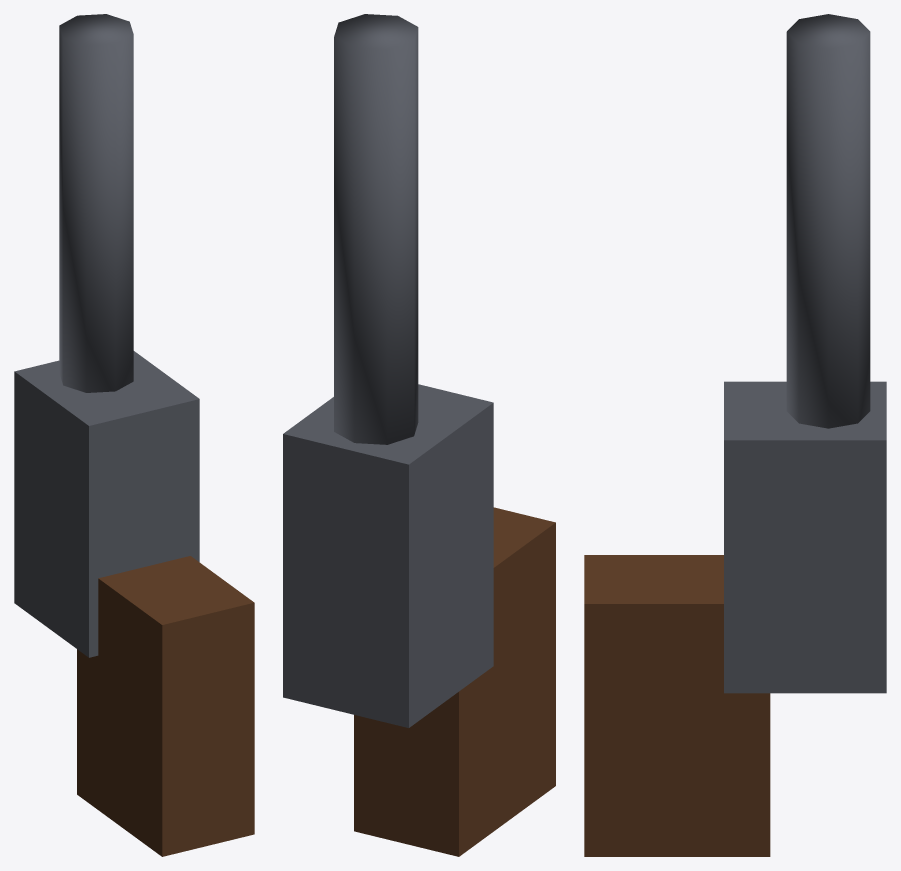
The model's file is flintlock_pistol.glb.
3 renders of one model, left to right at view 1: azimuth 30°, elevation 25°; view 2: azimuth 150°, elevation 25°; view 3: azimuth 270°, elevation 25°, orthographic. The views are drawn at different scales.
Visible parts, largest first — view 1: flintlock_pistol_v0; view 2: flintlock_pistol_v0; view 3: flintlock_pistol_v0.
Boxes of the visible parts, left/top/right/bottom form: flintlock_pistol_v0: left=14, top=14, right=254, bottom=856; flintlock_pistol_v0: left=283, top=14, right=555, bottom=856; flintlock_pistol_v0: left=584, top=14, right=886, bottom=856.
Bounding box in the file's own units: 0.06 × 0.38 × 0.13.
